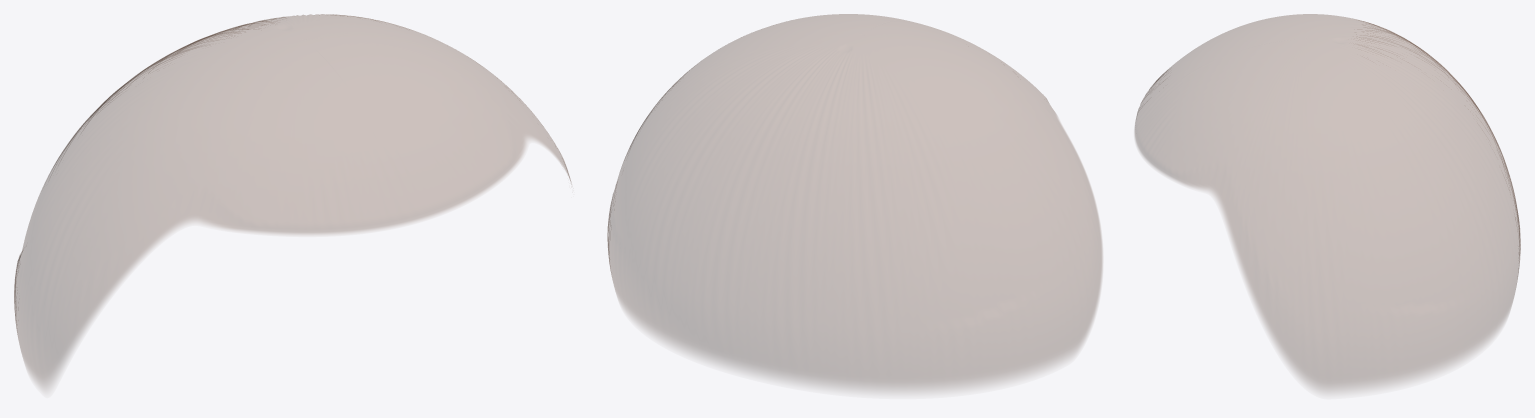
The model's file is Ombre-9e260947a864253-hair.glb.
3 renders of one model, left to right at view 1: azimuth 30°, elevation 25°; view 2: azimuth 150°, elevation 25°; view 3: azimuth 270°, elevation 25°, orthographic. The views are drawn at different scales.
Visible parts, largest first — view 1: 226 hair / Hair252 / buzz edge.001; view 2: 226 hair / Hair252 / buzz edge.001; view 3: 226 hair / Hair252 / buzz edge.001.
Part boxes in pixels (bbox=[...]): 226 hair / Hair252 / buzz edge.001: bbox=[14, 14, 571, 388]; 226 hair / Hair252 / buzz edge.001: bbox=[607, 14, 1102, 391]; 226 hair / Hair252 / buzz edge.001: bbox=[1134, 14, 1520, 391].
Bounding box in the file's own units: 0.9886 × 0.572 × 0.761.
Materials: 1 (1 with a texture image).
